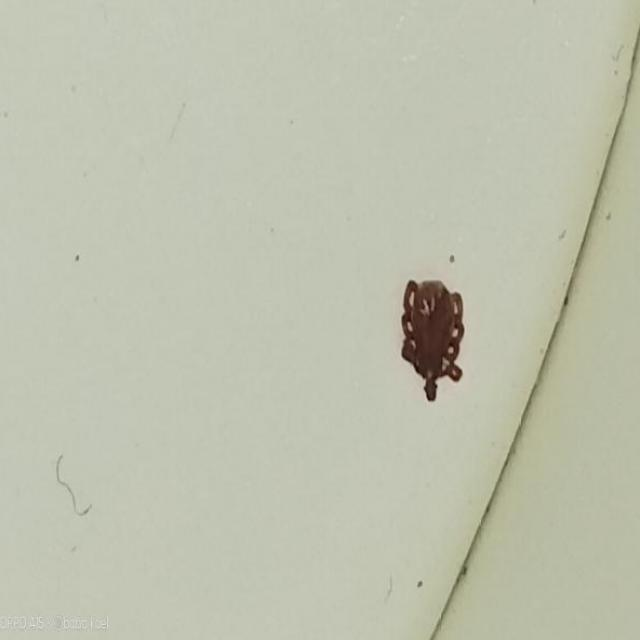Rhipicephalus Sanguineus-M: (399, 280, 468, 404)
